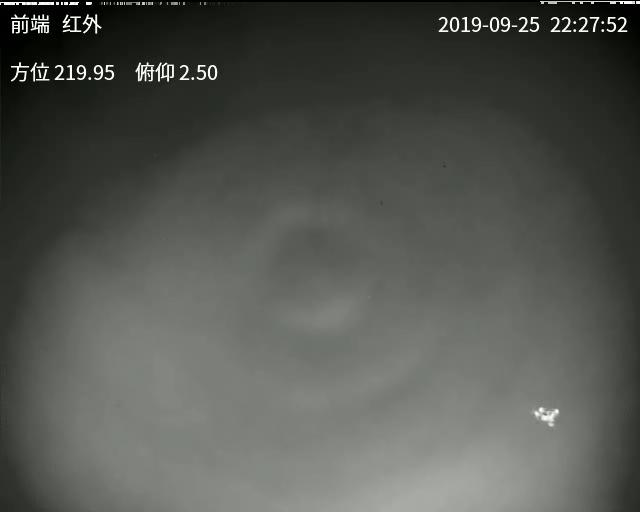uav: (530, 404, 563, 429)
